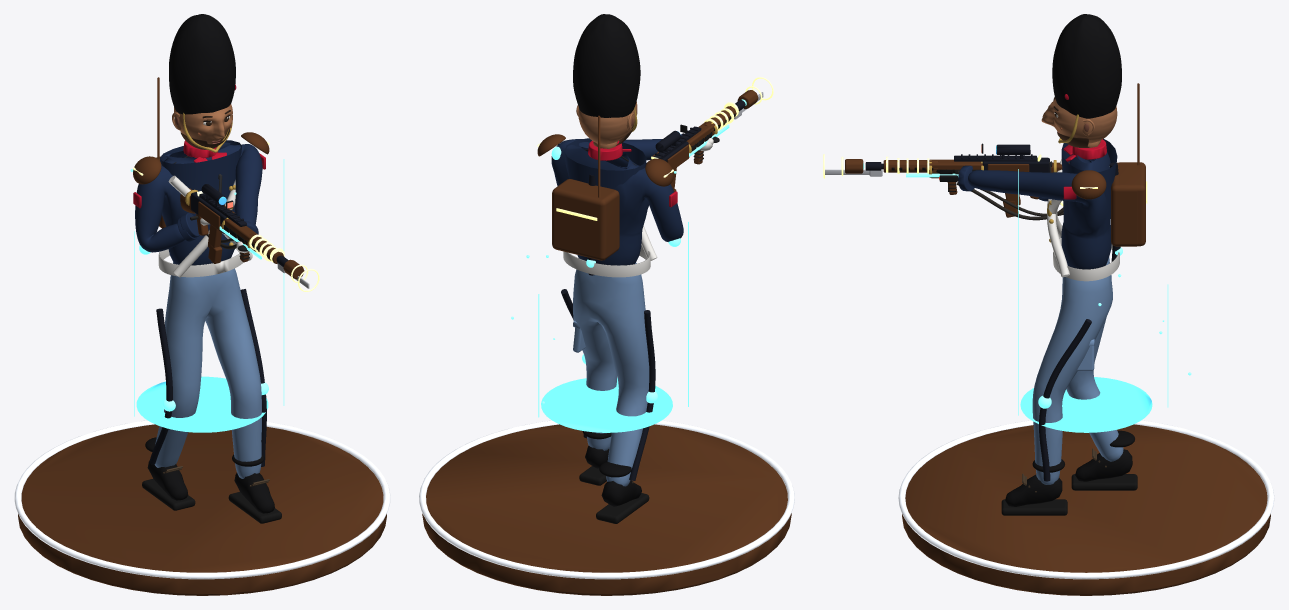
File: vagt_kbh.glb
The picture shows the model from 3 angles, left to right: view 1: azimuth 30°, elevation 25°; view 2: azimuth 150°, elevation 25°; view 3: azimuth 270°, elevation 25°; orthographic projection.
Parts seen in each view (by area): view 1: fod_net, menneske_net, overkrop_net, hoved_net, op4_net, op4.001_net, vaaben_net, op3_net, op1.001_net, op1.002_net, op3.001_net, op4.003_net (+2 smaller); view 2: fod_net, menneske_net, overkrop_net, hoved_net, op4.002_net, op4_net, op4.001_net, op3_net, op1.002_net, op3.001_net, vaaben_net, op4.003_net; view 3: fod_net, menneske_net, overkrop_net, hoved_net, op4_net, ned4_net, vaaben_net, op4.002_net, op4.001_net, op1_net, op3.001_net, op3_net (+3 smaller).
Part boxes in pixels (box(x1,y1,x2,y2)): fod_net: box(14, 420, 390, 595); menneske_net: box(142, 262, 281, 523); overkrop_net: box(133, 140, 265, 265); hoved_net: box(169, 14, 236, 152); op4_net: box(130, 159, 284, 432); op4.001_net: box(149, 289, 268, 466); vaaben_net: box(180, 188, 288, 266); op3_net: box(133, 77, 269, 184); op1.001_net: box(168, 175, 252, 277); op1.002_net: box(158, 248, 243, 277); op3.001_net: box(197, 191, 304, 278); op4.003_net: box(219, 226, 319, 291); fod_net: box(419, 420, 794, 595); menneske_net: box(573, 263, 649, 523); overkrop_net: box(551, 134, 719, 265); hoved_net: box(573, 14, 640, 145); op4.002_net: box(551, 146, 680, 275); op4_net: box(511, 171, 688, 432); op4.001_net: box(561, 289, 657, 480); op3_net: box(537, 115, 673, 197); op1.002_net: box(563, 245, 650, 277); op3.001_net: box(651, 90, 758, 169); vaaben_net: box(646, 100, 745, 163); op4.003_net: box(689, 77, 773, 156); fod_net: box(898, 420, 1274, 595); menneske_net: box(1001, 257, 1137, 515); overkrop_net: box(957, 138, 1117, 269); hoved_net: box(1041, 14, 1121, 147); op4_net: box(1018, 169, 1191, 432); ned4_net: box(1111, 162, 1138, 246); vaaben_net: box(865, 154, 1069, 199); op4.002_net: box(1109, 162, 1147, 261); op4.001_net: box(1038, 319, 1091, 481); op1_net: box(939, 144, 1063, 220); op3.001_net: box(845, 154, 1041, 173); op3_net: box(1071, 83, 1139, 199).
Bounding box in the file's own units: 1.94 × 2.86 × 2.32.
